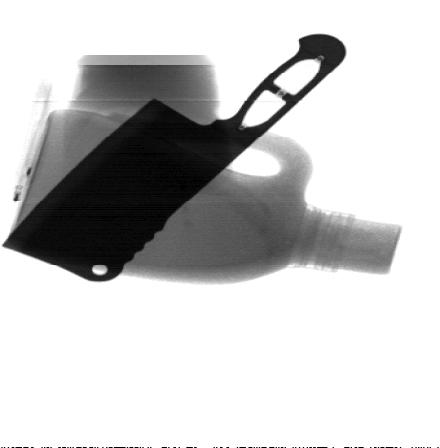Knife: (0, 33, 348, 284)
